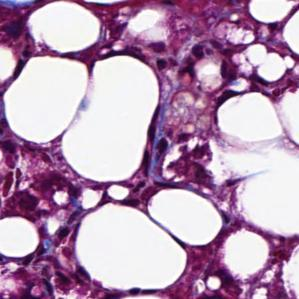inflammation: (143, 39, 173, 74), (54, 262, 93, 286)
